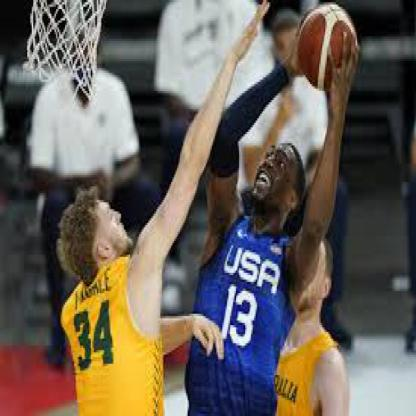basketball: (298, 2, 357, 91)
